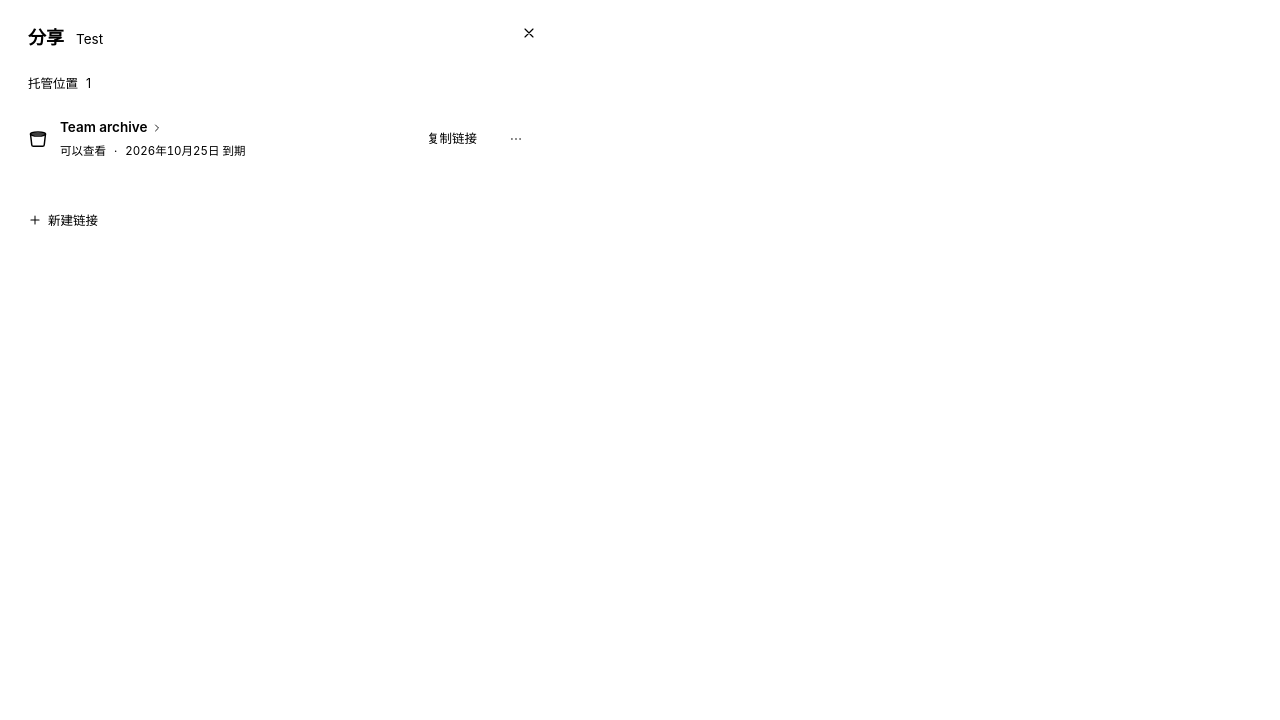
Test: existing link displays its actual host before access permissions
Click the button "新建链接".
click(63, 220)  # box [28, 205, 98, 236]
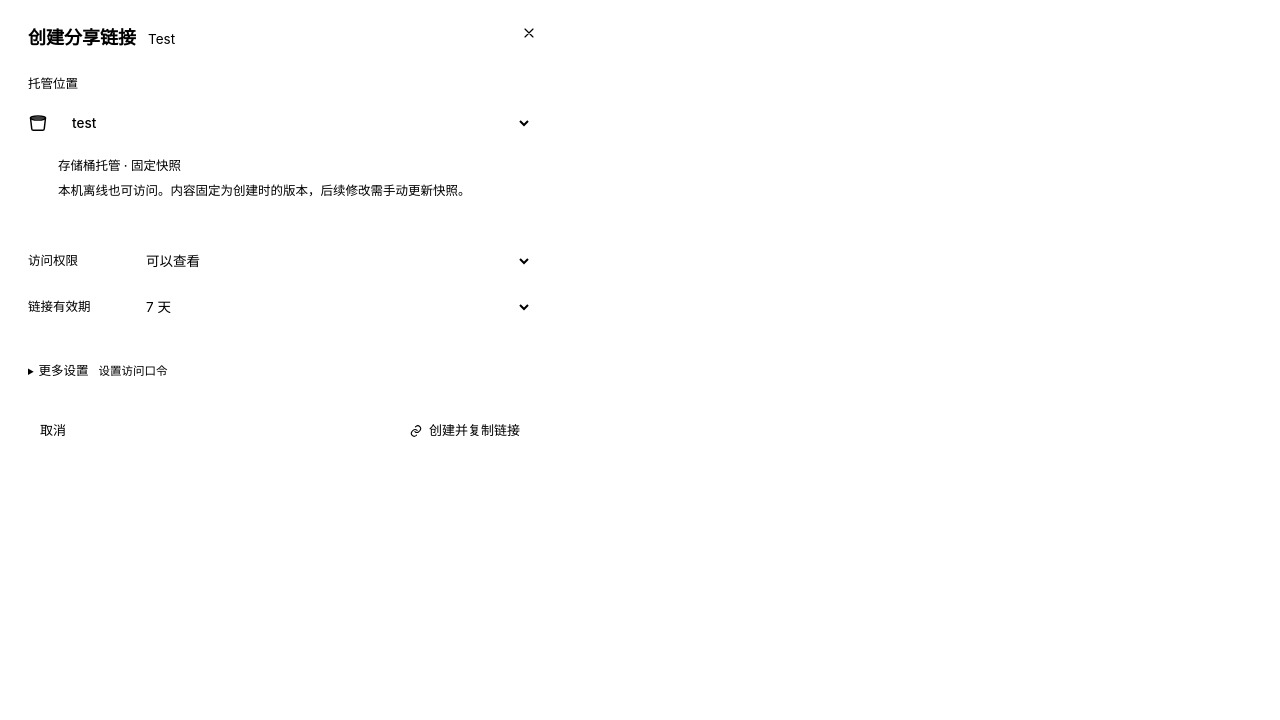
Result: the dropdown with id "share-host-destination" shows "test" at [58, 103, 532, 143]
